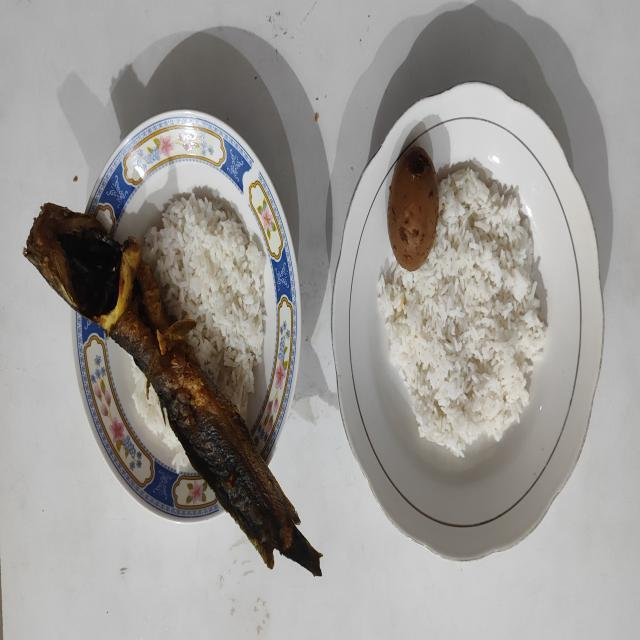nasi_putih: (378, 167, 546, 457), (142, 192, 266, 418), (131, 357, 189, 474)
